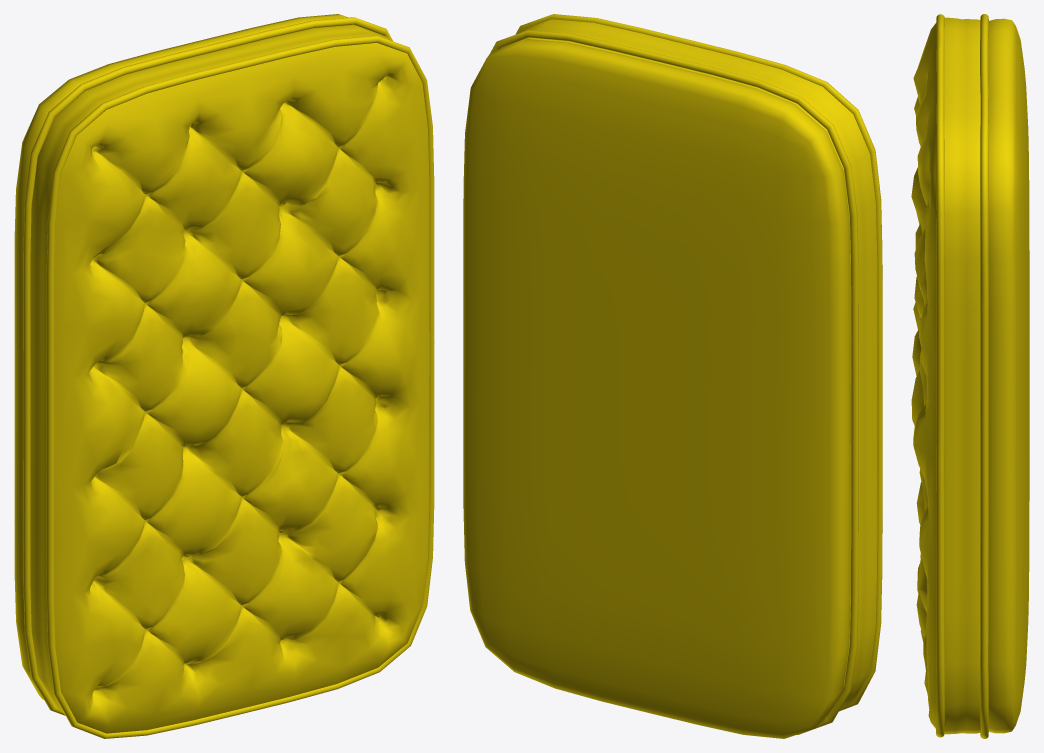
File: mattress.gltf
3 views of the same model, side by side, from view 1: azimuth 30°, elevation 25°; view 2: azimuth 150°, elevation 25°; view 3: azimuth 270°, elevation 25° (orthographic). The views are drawn at different scales.
Parts seen in each view (by area): view 1: bloodymatress; view 2: bloodymatress; view 3: bloodymatress.
Boxes of the visible parts, bbox=[...] form: bloodymatress: bbox=[14, 14, 434, 738]; bloodymatress: bbox=[463, 14, 882, 738]; bloodymatress: bbox=[911, 14, 1029, 738].
Size of the model in its own units: 181 by 292 by 50.88.
